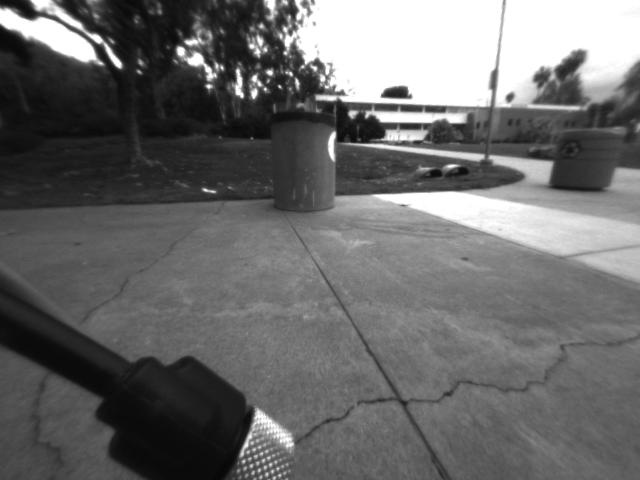trashcan: (265, 105, 344, 215), (544, 114, 632, 199)
